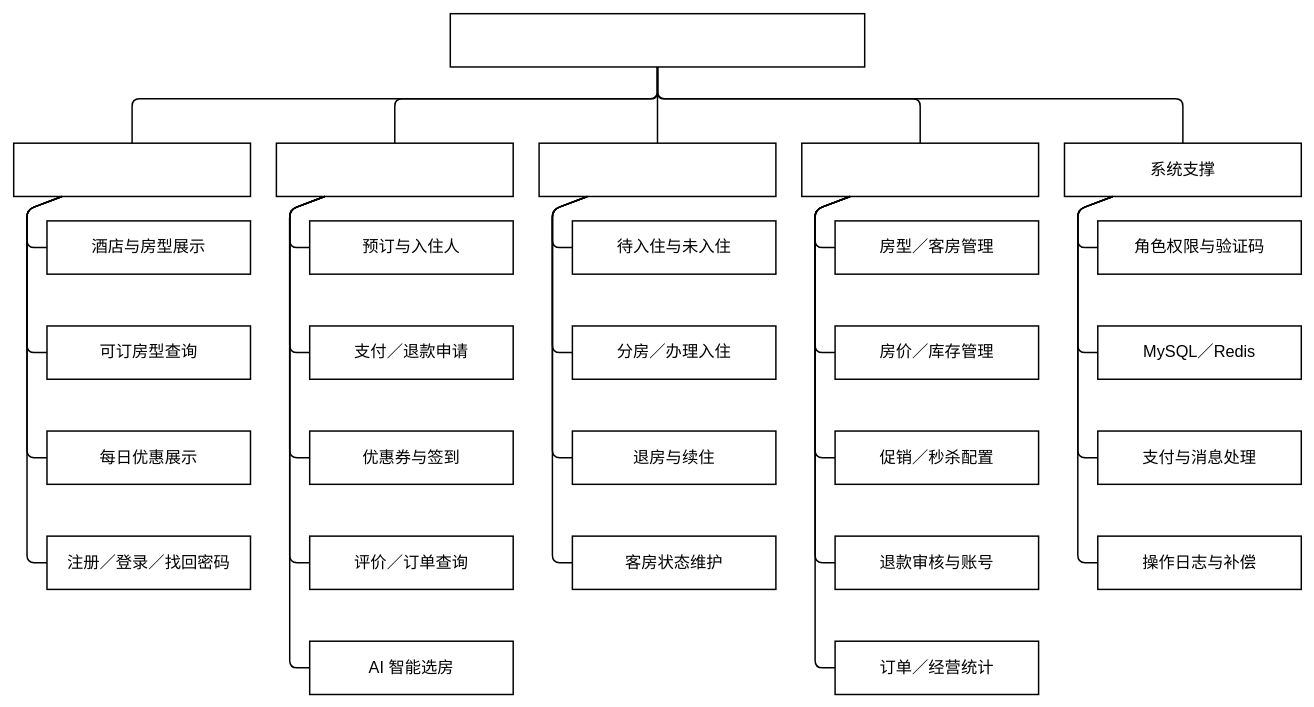
Image size: 1314x707. Some labels were removed from this diagram. The centre of each missing label's shape, as x and y in pixels:
"公共入口" goes at point (132, 169).
"前台业务" goes at point (657, 169).
"智慧酒店预订与运营管理系统" goes at point (657, 40).
"管理员业务" goes at point (920, 169).
"顾客服务" goes at point (394, 169).
